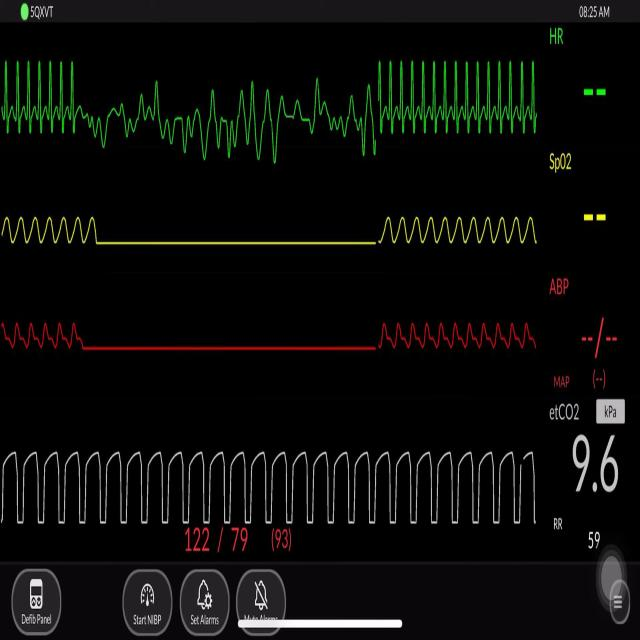danger: (370, 52, 545, 146), (8, 45, 77, 135)
